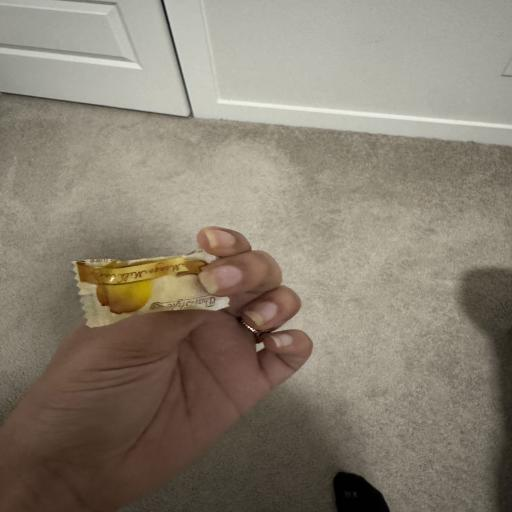chocolate: (73, 248, 229, 327)
